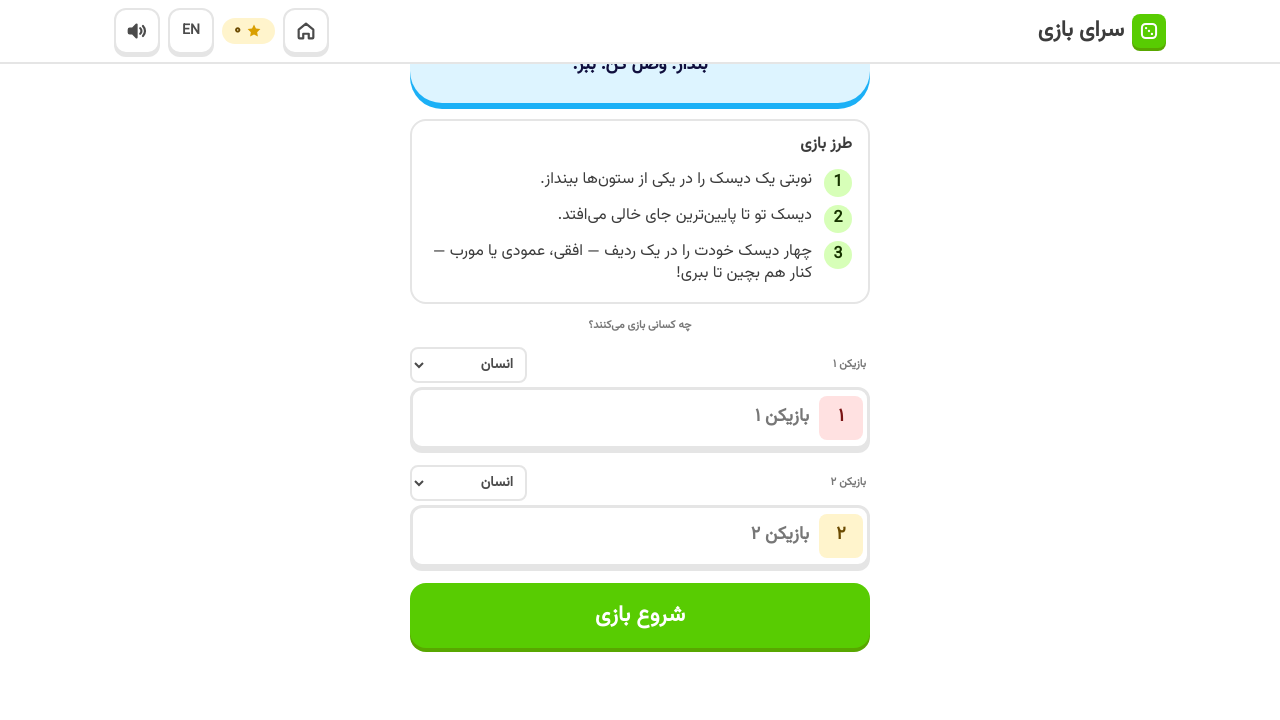
Test: Connect Four — Persian › shows Persian text, digits and default names
(page scrolled)
Click the button "شروع بازی". click: (640, 615)
box: [410,583,870,648]
(page scrolled)
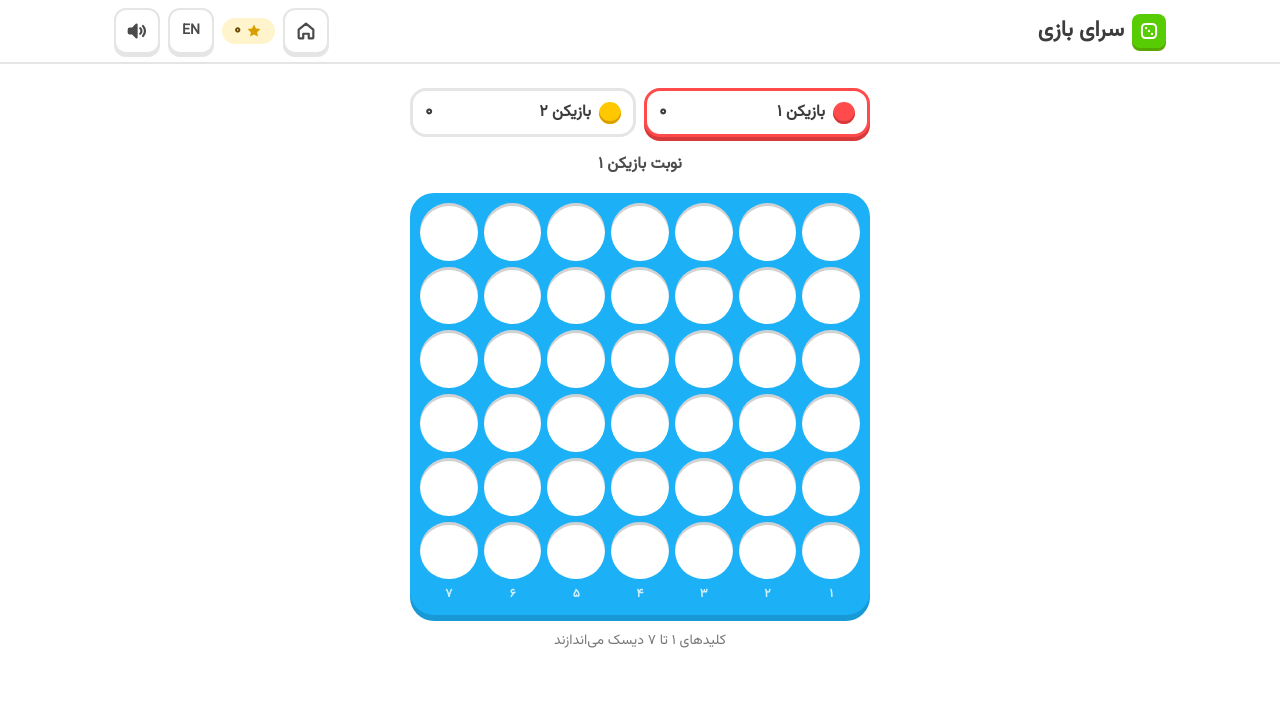
Check: the message with class "c4-status" reads "نوبت بازیکن ۱", box [598,152,682,177]
Check: the button named "انداختن دیسک در ستون ۱" is shown, box [802,203,860,605]
